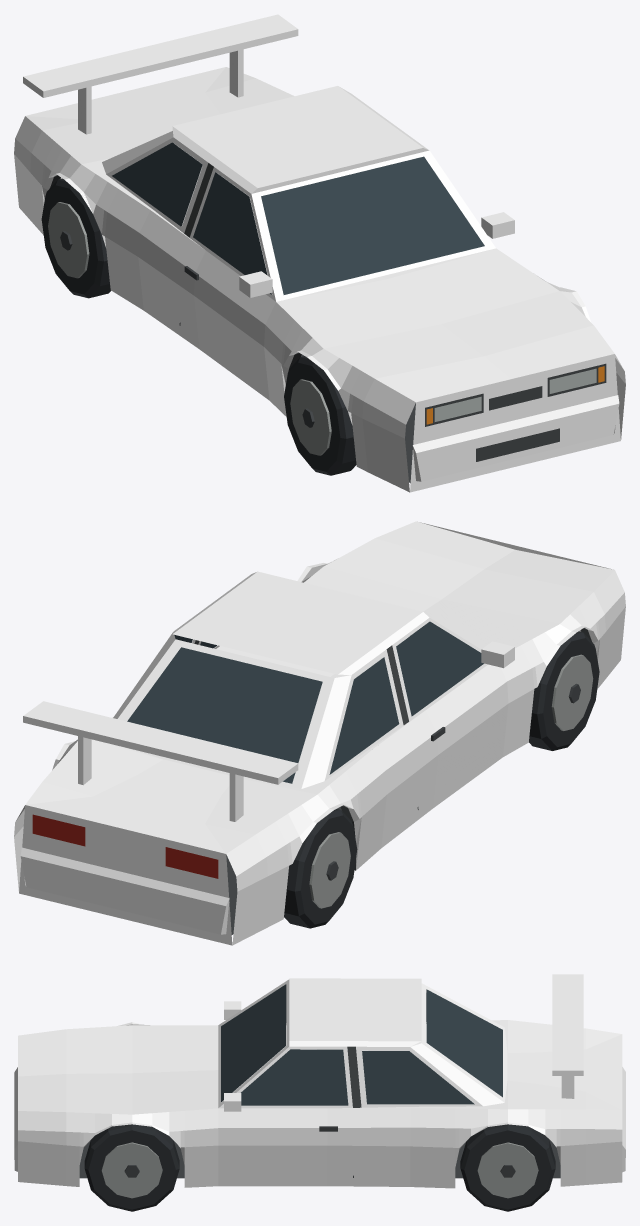
Rendered from hayase_raijin_corrida.glb.
3 views of the same model, one above another, from view 1: azimuth 30°, elevation 25°; view 2: azimuth 150°, elevation 25°; view 3: azimuth 270°, elevation 25° (orthographic). The views are drawn at different scales.
Visible parts, largest first — view 1: hayase_raijin_corrida; view 2: hayase_raijin_corrida; view 3: hayase_raijin_corrida.
Boxes of the visible parts, x1,y1,x2,y2 form: hayase_raijin_corrida: [14, 14, 625, 492]; hayase_raijin_corrida: [14, 521, 625, 945]; hayase_raijin_corrida: [14, 974, 625, 1211].
Bounding box in the file's own units: 1.69 × 1.19 × 4.28.
8 materials, 1 textured.
